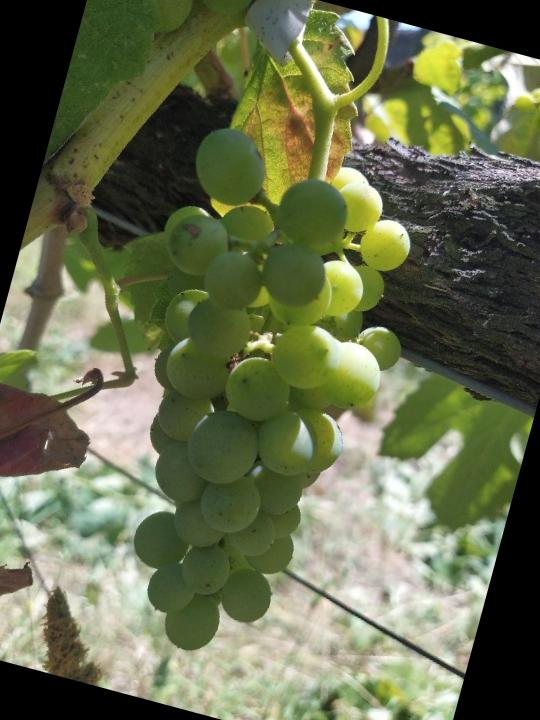grape: (59, 116, 446, 686)
